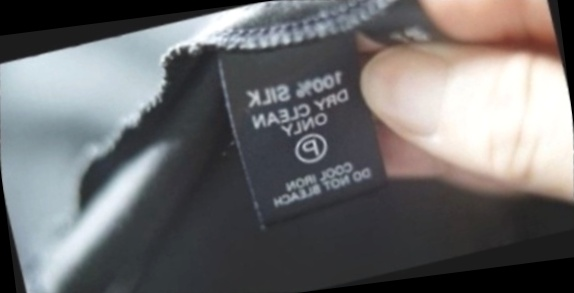dry_clean_any_solvent_except_trichloroethylene: (280, 119, 340, 177)
